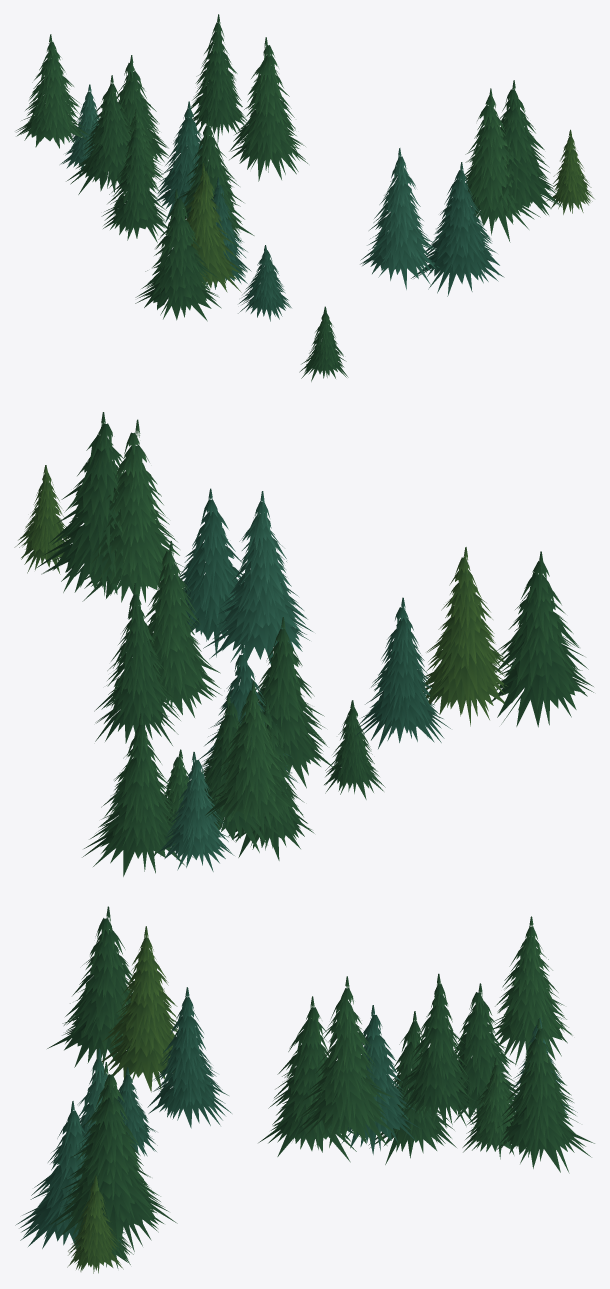
File: pine_18.glb
3 renders of one model, top to bottom at view 1: azimuth 30°, elevation 25°; view 2: azimuth 150°, elevation 25°; view 3: azimuth 270°, elevation 25°, orthographic. The views are drawn at different scales.
Visible parts, largest first — view 1: pine_18; view 2: pine_18; view 3: pine_18.
Boxes of the visible parts, left/top/right/bottom form: pine_18: left=16, top=14, right=594, bottom=381; pine_18: left=14, top=412, right=593, bottom=876; pine_18: left=15, top=906, right=594, bottom=1273.
Bounding box in the file's own units: 49.03 × 26.89 × 45.74.
1 material, 1 textured.
